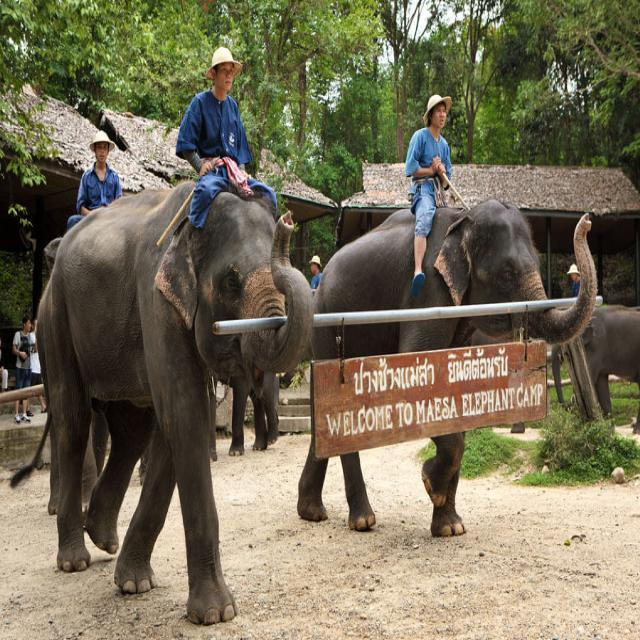Elephant: (293, 145, 612, 610), (12, 149, 302, 613)
